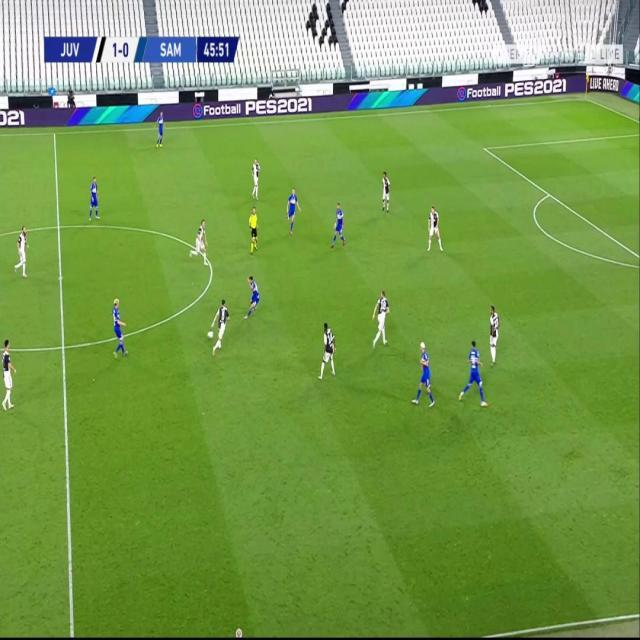ball: (206, 330, 214, 341)
player: (459, 340, 489, 411), (411, 341, 436, 410), (108, 295, 131, 363), (0, 334, 19, 411), (370, 289, 391, 352), (317, 321, 338, 382), (210, 298, 231, 358), (14, 224, 33, 285), (188, 219, 210, 267), (242, 275, 261, 322), (329, 200, 346, 252), (426, 203, 443, 254), (489, 304, 501, 370), (286, 188, 302, 236), (88, 175, 101, 223), (250, 157, 262, 202), (381, 170, 392, 215), (154, 112, 166, 149)
referee: (248, 207, 260, 256)
